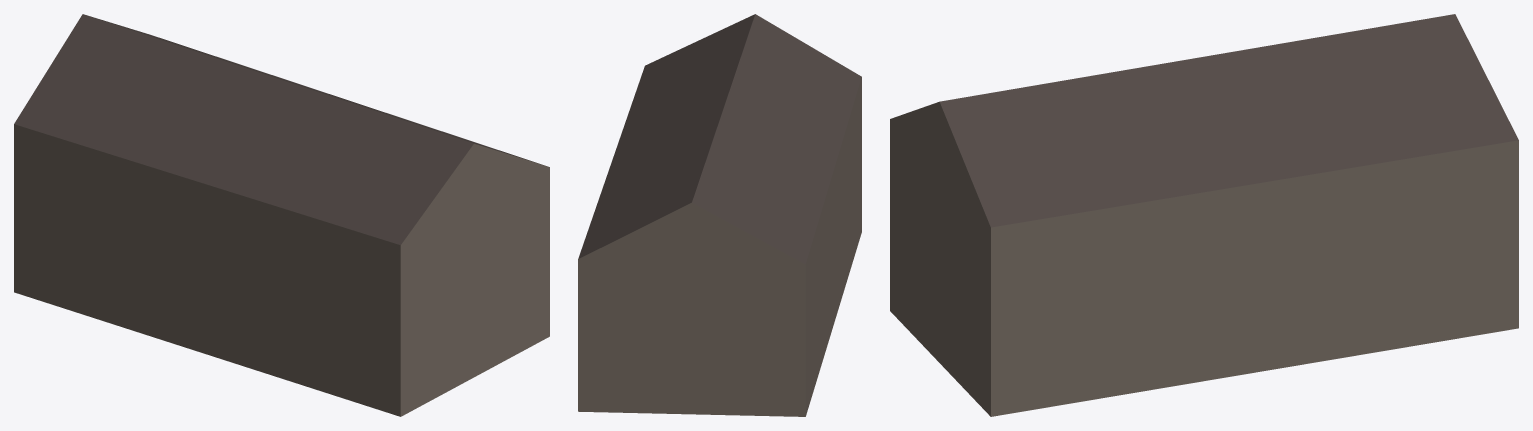
3 views of the same model, side by side, from view 1: azimuth 30°, elevation 25°; view 2: azimuth 150°, elevation 25°; view 3: azimuth 270°, elevation 25° (orthographic). The views are drawn at different scales.
Visible parts, largest first — view 1: HP-w1515071088; view 2: HP-w1515071088; view 3: HP-w1515071088.
Boxes of the visible parts, x1=… form: HP-w1515071088: x1=14, y1=14, x2=549, y2=416; HP-w1515071088: x1=578, y1=14, x2=861, y2=416; HP-w1515071088: x1=890, y1=14, x2=1518, y2=416.
Bounding box in the file's own units: 13.31 × 8.34 × 18.18.
